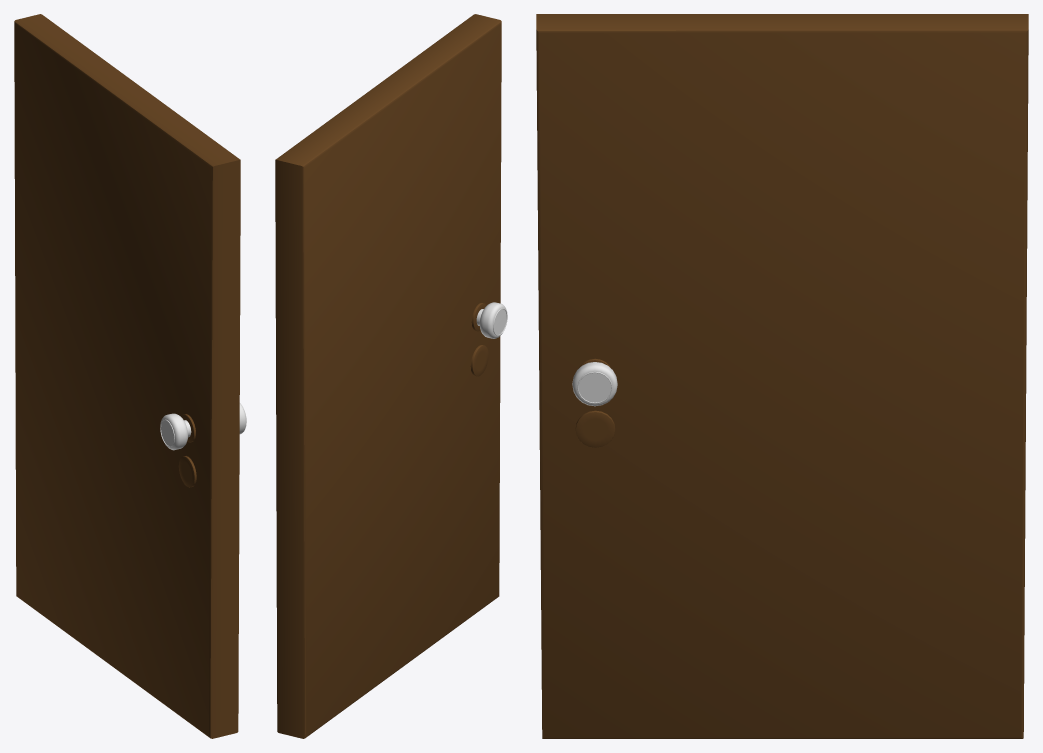
The model's file is DOOR.fbx.
The picture shows the model from 3 angles, left to right: view 1: azimuth 30°, elevation 25°; view 2: azimuth 150°, elevation 25°; view 3: azimuth 270°, elevation 25°; orthographic projection. The views are drawn at different scales.
Parts seen in each view (by area): view 1: Plane.004, Cube.002; view 2: Plane.004, Cube.002; view 3: Plane.004, Cube.002.
Boxes of the visible parts, left/top/right/bottom form: Plane.004: left=14, top=14, right=240, bottom=738; Cube.002: left=160, top=403, right=246, bottom=450; Plane.004: left=275, top=14, right=501, bottom=738; Cube.002: left=476, top=302, right=507, bottom=338; Plane.004: left=536, top=14, right=1028, bottom=738; Cube.002: left=572, top=362, right=617, bottom=406.
Bounding box in the file's own units: 39.93 × 302 × 190.
